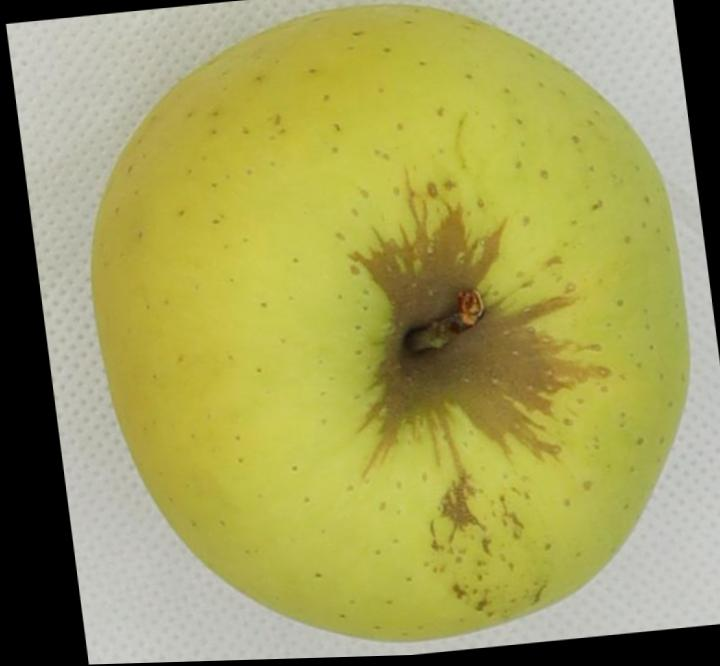apple: (93, 5, 689, 641)
bruise_discoloration: (353, 190, 610, 457)
